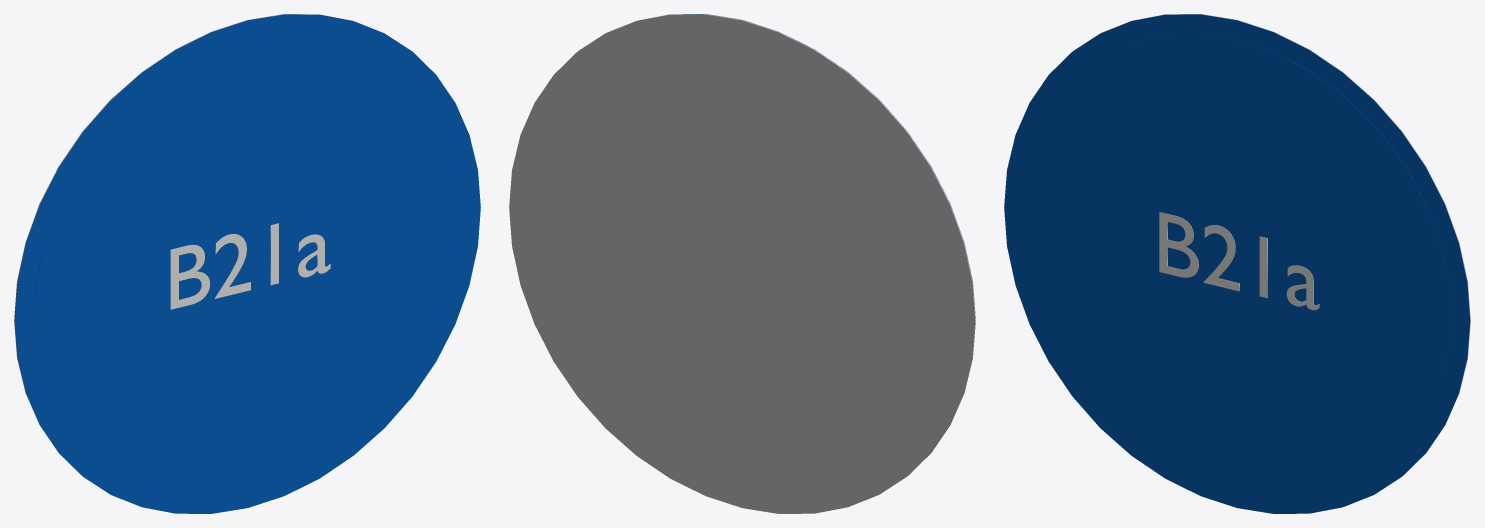
The picture shows the model from 3 angles, left to right: view 1: azimuth 30°, elevation 25°; view 2: azimuth 150°, elevation 25°; view 3: azimuth 330°, elevation 25°; orthographic projection.
Parts seen in each view (by area): view 1: B21a_int01, B21a_ext00, B21a_txt02, B21a_dos; view 2: B21a_dos; view 3: B21a_int01, B21a_ext00, B21a_txt02, B21a_dos.
Boxes of the visible parts, x1,y1,x2,y2 form: B21a_int01: (33,34,462,493); B21a_ext00: (14,14,480,513); B21a_txt02: (170,223,330,309); B21a_dos: (14,14,383,475); B21a_dos: (509,14,975,513); B21a_int01: (1022,34,1451,493); B21a_ext00: (1004,14,1470,513); B21a_txt02: (1159,212,1319,310); B21a_dos: (1101,14,1470,475).
Size of the model in its own units: 0.65 by 0.65 by 0.0025.
